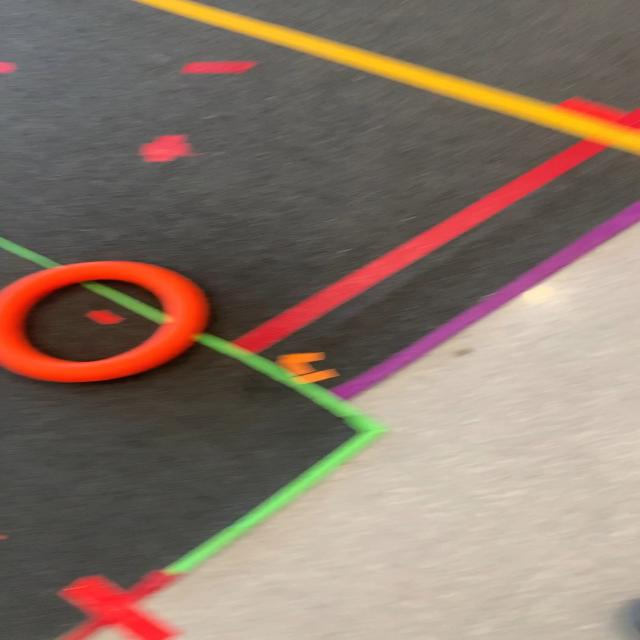notes: (0, 257, 208, 380)
